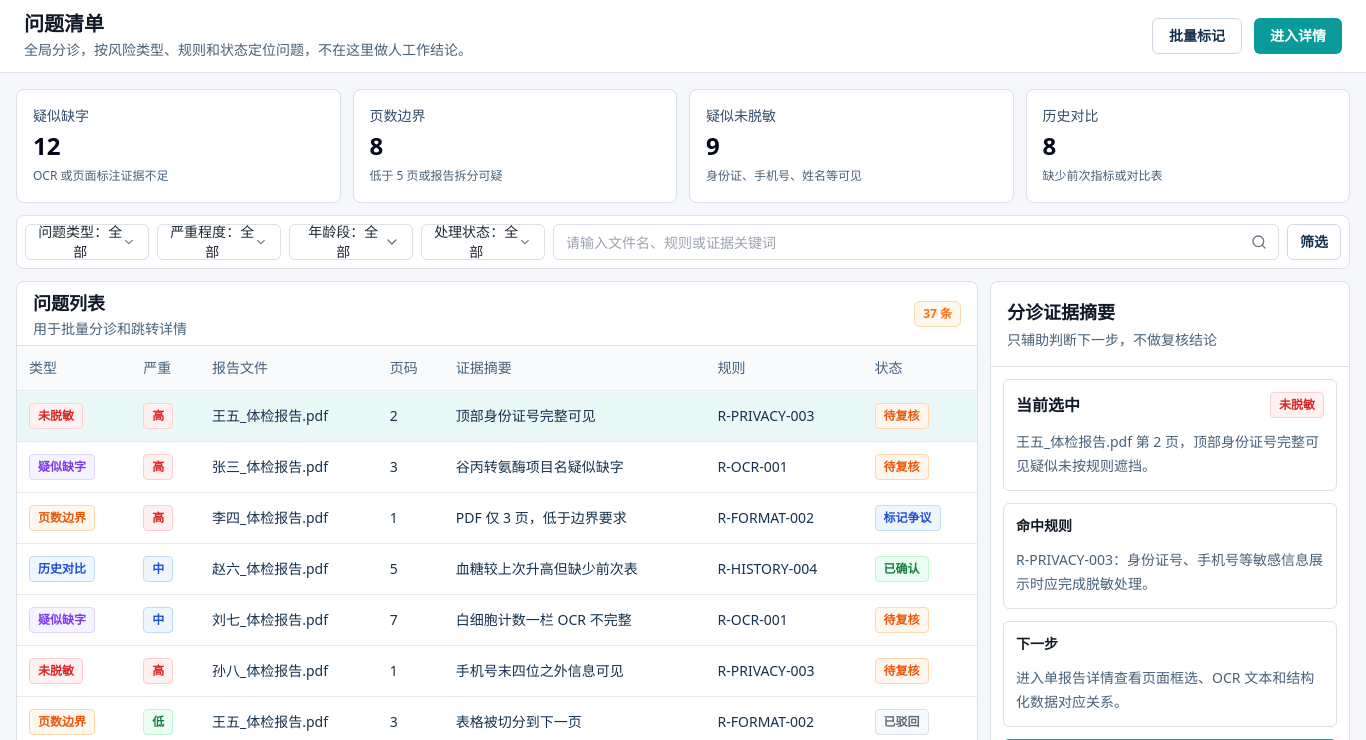
Test case: tasks page › clears issue rows when search results become empty
Type "no-matching-issue" into the field with placeholder "请输入文件名、规则或证据关键词" at [916, 242], box x1=553 y1=224 x2=1279 y2=260
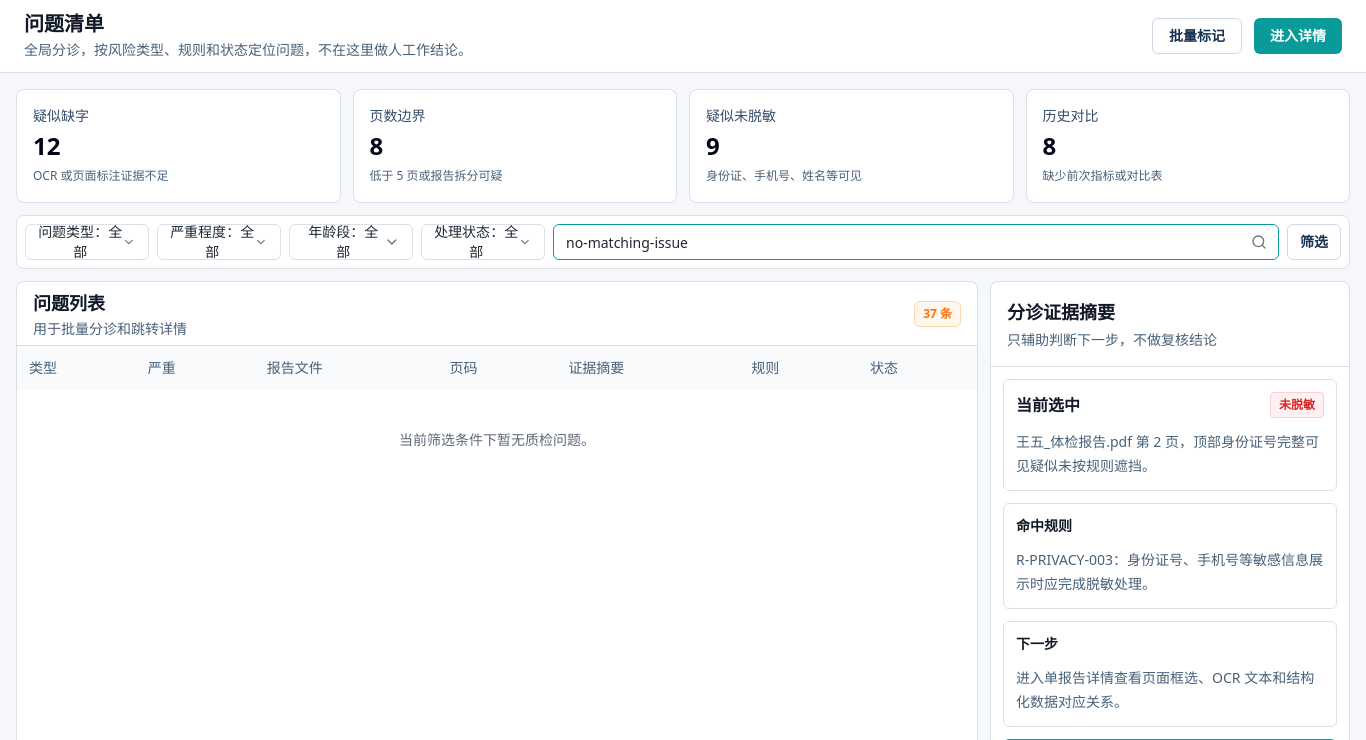
Check: the text "当前筛选条件下暂无质检问题。" is shown, box x1=17 y1=390 x2=977 y2=490
